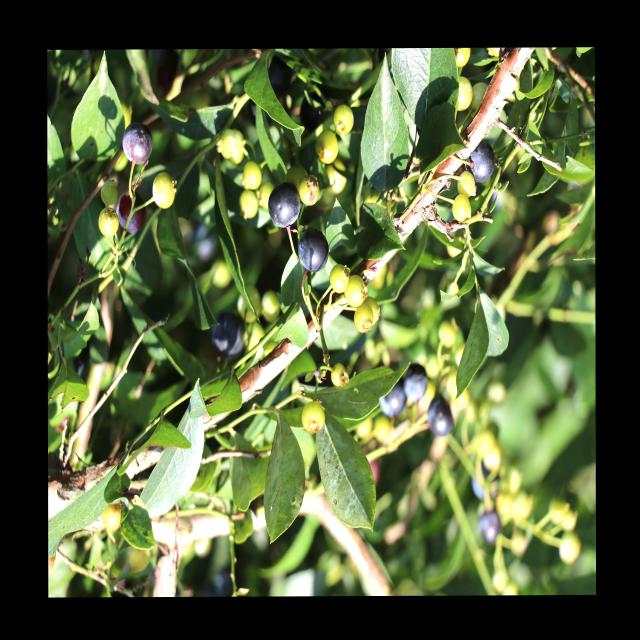blueberry: (266, 183, 302, 232), (298, 223, 332, 274), (117, 124, 157, 166), (210, 309, 244, 356), (115, 191, 148, 236), (427, 391, 457, 438), (467, 140, 497, 187), (404, 359, 429, 408), (381, 375, 407, 421)
blueberry-unripe: (151, 172, 176, 208), (344, 274, 368, 309), (99, 499, 123, 533), (302, 400, 326, 434), (316, 129, 337, 164), (454, 76, 473, 112), (333, 104, 354, 135), (329, 264, 349, 296), (97, 212, 121, 238), (353, 302, 373, 333), (238, 190, 258, 220), (299, 176, 319, 205), (242, 162, 262, 190), (452, 193, 470, 223), (100, 182, 119, 209), (438, 320, 456, 348), (456, 172, 475, 196), (331, 360, 347, 388), (366, 296, 381, 324), (455, 48, 471, 68)
